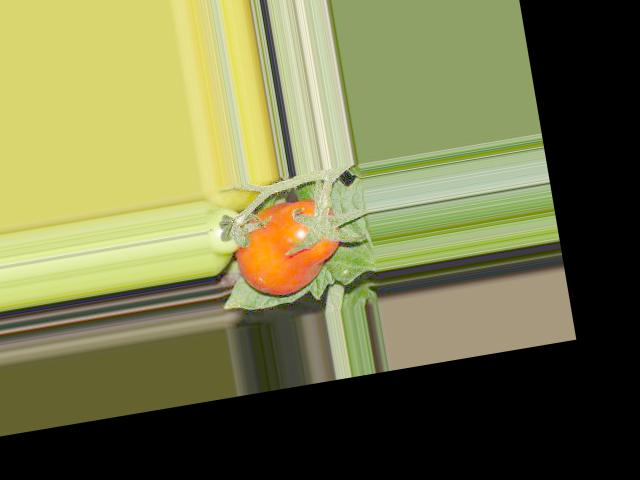tomato: (230, 195, 347, 301)
